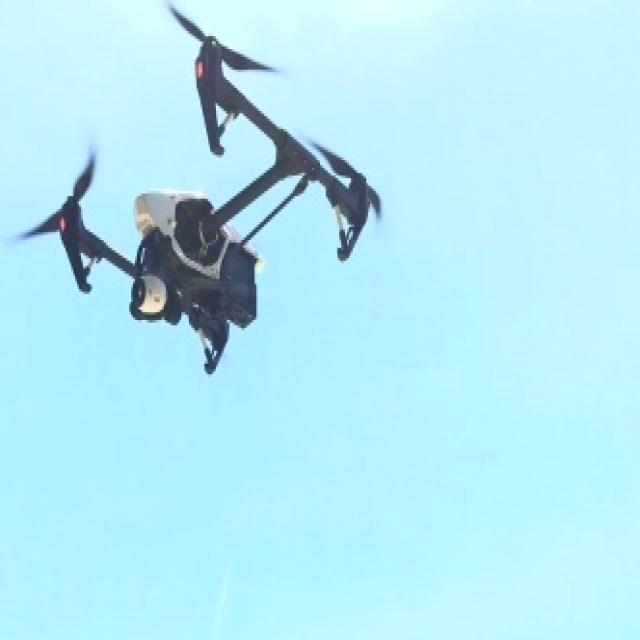drone: (14, 13, 388, 395)
